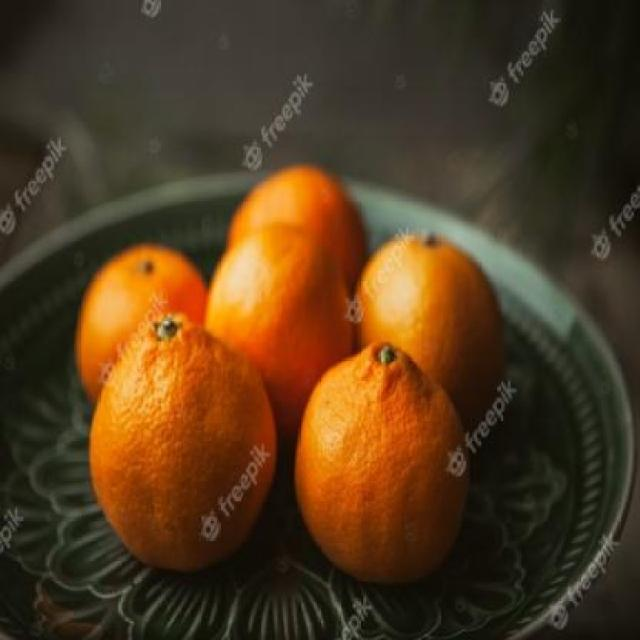Orange: (86, 310, 277, 572), (292, 338, 470, 584), (203, 225, 354, 432), (350, 229, 504, 422), (74, 242, 206, 402), (226, 163, 365, 291)
